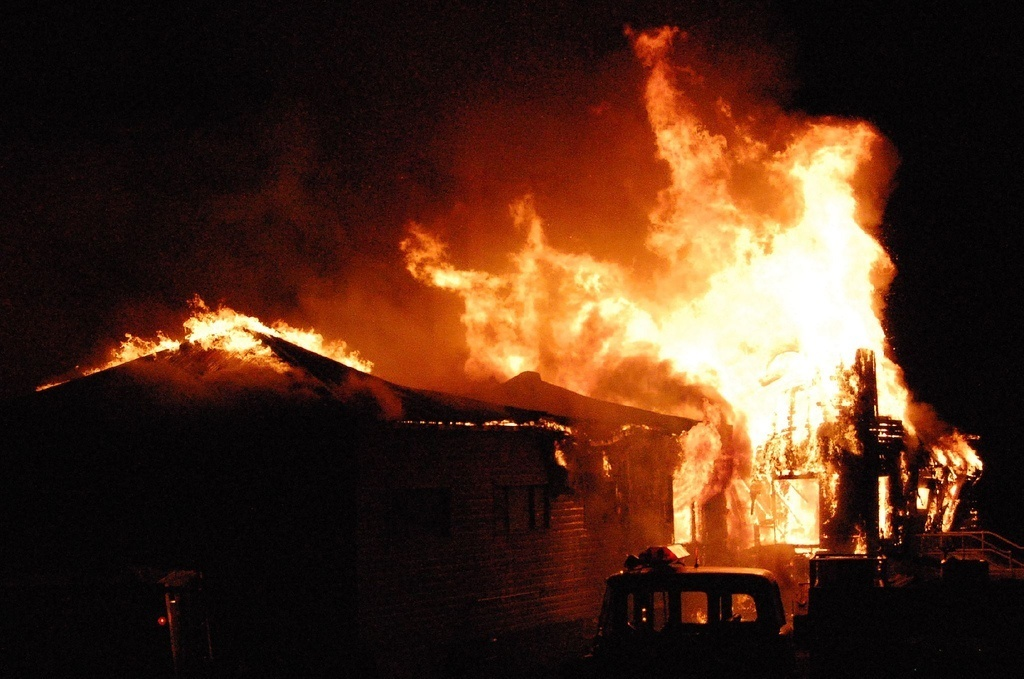fire: (416, 35, 963, 553), (45, 293, 370, 393)
